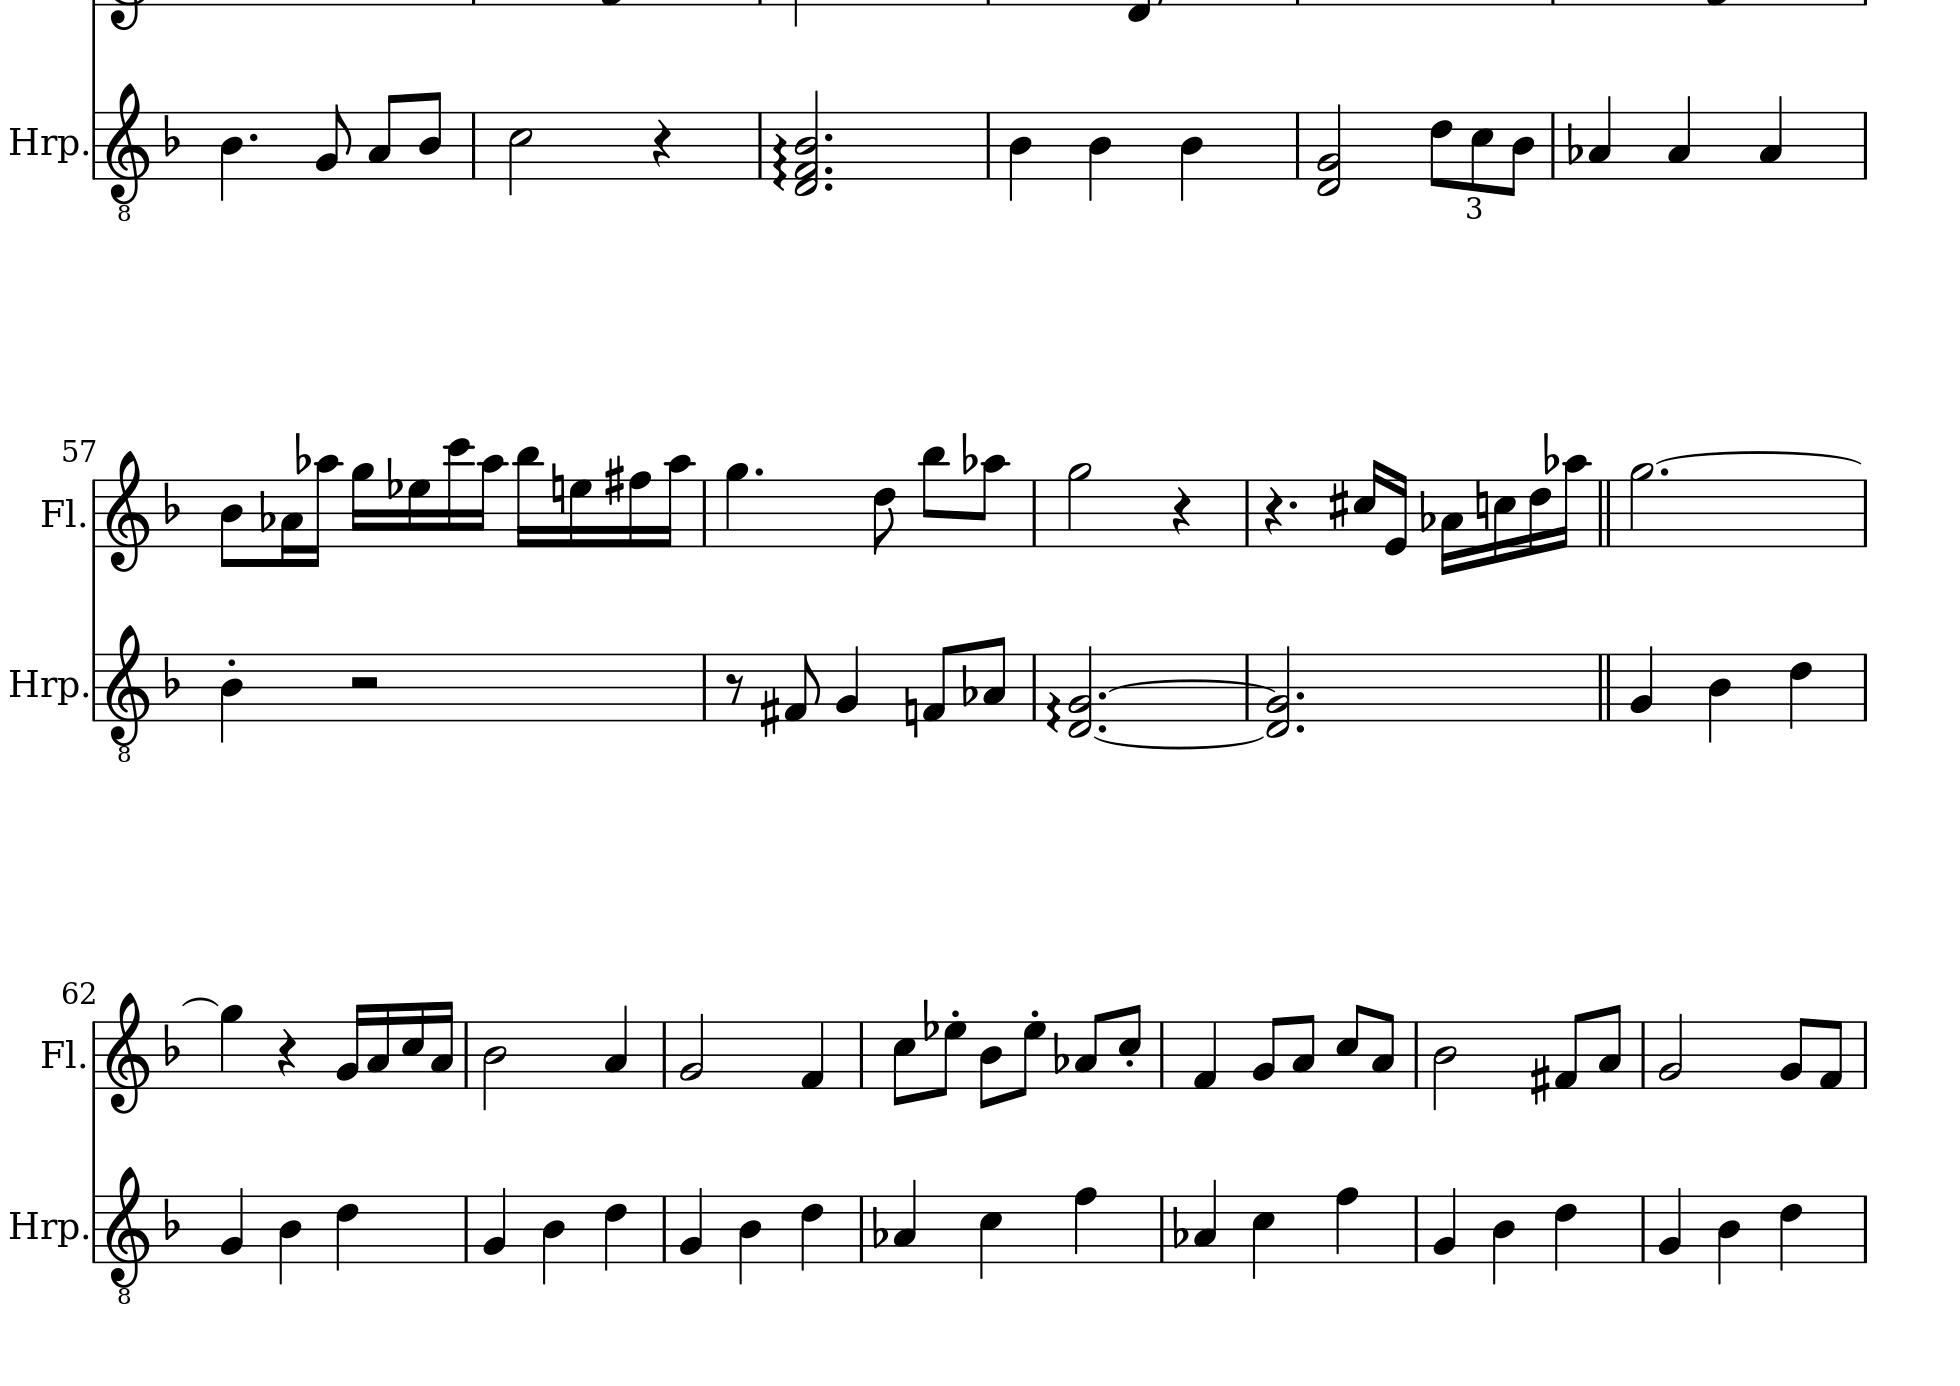16_0: (1383, 466, 1410, 556)
16_10: (304, 453, 342, 568), (658, 451, 694, 550), (1557, 453, 1591, 550), (474, 453, 505, 549)
16_11: (514, 445, 541, 550)
16_12: (444, 436, 472, 549)
16_2: (334, 1000, 366, 1089)
16_3: (1440, 477, 1464, 577), (429, 997, 454, 1087), (366, 1000, 391, 1089), (279, 478, 303, 568)
16_5: (1353, 457, 1381, 547), (400, 1000, 426, 1089), (1492, 477, 1516, 564)
16_6: (1527, 475, 1551, 556)
16_7: (405, 475, 430, 550), (567, 477, 592, 550)
16_8: (625, 469, 652, 550)
16_9: (349, 460, 373, 550)
2: (78, 979, 97, 1005)
2_-1_2: (1264, 643, 1293, 739), (1068, 646, 1093, 739)
2_2: (1657, 1011, 1686, 1089), (678, 1009, 705, 1089)
2_4: (1431, 1018, 1458, 1111), (481, 1018, 507, 1111)
2_5: (505, 109, 532, 196)
2_9: (1065, 460, 1093, 549), (1627, 460, 1653, 550)
2_th: (793, 88, 822, 199)
3: (1464, 193, 1483, 220)
4_1: (1191, 1018, 1219, 1090), (799, 1018, 826, 1090)
4_2: (1629, 643, 1656, 724), (481, 1185, 508, 1264), (1431, 1185, 1458, 1264), (1657, 1185, 1684, 1264), (835, 643, 861, 723), (220, 1185, 246, 1264), (678, 1186, 703, 1264)
4_3: (1587, 94, 1614, 181), (1666, 94, 1693, 181), (1758, 94, 1785, 181), (892, 1177, 918, 1264), (1194, 1177, 1219, 1264), (603, 1003, 628, 1089)
4_4: (1179, 109, 1206, 202), (1716, 1192, 1743, 1285), (219, 109, 244, 202), (1008, 109, 1033, 202), (1087, 109, 1113, 202), (736, 1192, 762, 1285), (1707, 651, 1732, 742), (277, 1192, 303, 1284), (1491, 1194, 1516, 1285), (219, 652, 244, 742), (541, 1192, 565, 1284)
4_5: (976, 1192, 1003, 1279), (1251, 1192, 1276, 1281)
4_6: (601, 1192, 628, 1272), (1788, 651, 1813, 730), (334, 1192, 360, 1270), (799, 1192, 823, 1272), (1554, 1192, 1578, 1272), (1779, 1192, 1803, 1272)
4_8: (1072, 1185, 1098, 1266), (1335, 1183, 1360, 1264)
4_9: (723, 460, 750, 549), (219, 1002, 243, 1090)
6: (61, 978, 79, 1006)
7: (79, 436, 97, 463)
8_1: (783, 651, 822, 723), (1554, 1009, 1588, 1090), (922, 643, 955, 724), (1818, 1018, 1845, 1090)
8_10: (973, 453, 1009, 549)
8_11: (919, 445, 949, 547)
8_2: (315, 102, 351, 178), (1779, 1014, 1812, 1089), (1251, 1014, 1282, 1090)
8_3: (366, 91, 400, 181), (1074, 1009, 1107, 1090), (982, 634, 1008, 721), (1597, 1003, 1623, 1089), (1371, 1009, 1396, 1090), (1291, 1012, 1317, 1090)
8_4: (1503, 109, 1536, 196), (976, 1018, 1005, 1111), (217, 477, 244, 568), (418, 88, 444, 181)
8_5: (1335, 1000, 1366, 1090), (889, 1020, 916, 1107), (1468, 109, 1494, 193), (1119, 1002, 1143, 1090)
8_6: (1428, 109, 1453, 189), (871, 477, 897, 556)
8_7: (1014, 1018, 1047, 1099), (934, 1018, 966, 1098)
Arpeggio: (769, 130, 790, 189)
Double_barline: (1594, 652, 1617, 720), (1596, 477, 1617, 547)
Fl: (37, 1035, 78, 1072), (39, 495, 76, 529)
Flat: (160, 111, 181, 157), (160, 478, 181, 525), (160, 652, 181, 699), (384, 454, 403, 501), (1170, 1204, 1189, 1251), (162, 1195, 181, 1240), (870, 1203, 888, 1251), (960, 429, 978, 475), (1419, 487, 1437, 534), (1566, 121, 1584, 166), (1542, 430, 1560, 475), (162, 1021, 180, 1066), (258, 487, 274, 535), (960, 661, 976, 708), (294, 430, 310, 475), (1053, 1030, 1069, 1075), (922, 997, 937, 1042)
Gclef: (103, 988, 150, 1116), (103, 448, 148, 574)
Hn: (7, 1204, 82, 1249)
Lower_Gclef: (103, 1162, 150, 1305), (103, 79, 148, 223), (103, 622, 148, 763)
Natural: (549, 460, 565, 517), (1474, 478, 1491, 532), (903, 685, 919, 739)
Rests2: (346, 673, 382, 691)
Rests4: (1170, 484, 1194, 538), (274, 1027, 298, 1078), (651, 117, 673, 169), (1263, 484, 1284, 538)
Rests8: (724, 670, 744, 705)
Sharp: (1326, 478, 1350, 531), (1527, 1053, 1551, 1105), (603, 453, 625, 507), (759, 685, 780, 738)
Single_barline: (1854, 111, 1875, 178), (1239, 478, 1257, 546), (1239, 652, 1257, 720), (1026, 478, 1044, 544), (1407, 1020, 1425, 1086), (457, 1021, 475, 1086), (465, 109, 481, 178), (87, 478, 103, 547), (87, 111, 103, 178), (981, 111, 997, 178), (1545, 111, 1561, 178), (87, 652, 103, 720), (696, 652, 712, 720), (1857, 652, 1873, 720), (1155, 1020, 1171, 1087), (657, 1021, 673, 1087), (853, 1021, 870, 1087), (1857, 1195, 1873, 1261), (657, 1195, 673, 1261), (696, 480, 712, 544), (1857, 1020, 1872, 1089), (87, 1194, 102, 1263), (87, 1020, 102, 1087), (753, 112, 768, 178), (1290, 112, 1305, 178), (1027, 652, 1042, 718), (853, 1195, 868, 1261), (1155, 1195, 1170, 1261), (1410, 1195, 1425, 1261), (459, 1195, 474, 1261), (1636, 1195, 1651, 1260), (1638, 1018, 1651, 1087), (1858, 480, 1872, 547)
Slur: (1657, 448, 1872, 463), (1114, 676, 1275, 694), (1092, 736, 1269, 751), (180, 996, 219, 1008)
Tpt: (7, 664, 79, 708), (9, 123, 79, 166)
dot: (246, 129, 259, 144), (751, 465, 765, 478), (1287, 498, 1300, 511), (1293, 721, 1308, 733), (822, 180, 835, 192), (1657, 466, 1671, 478), (1293, 688, 1306, 700), (1096, 688, 1108, 702), (822, 130, 834, 142), (823, 163, 835, 175), (1096, 721, 1108, 733)
